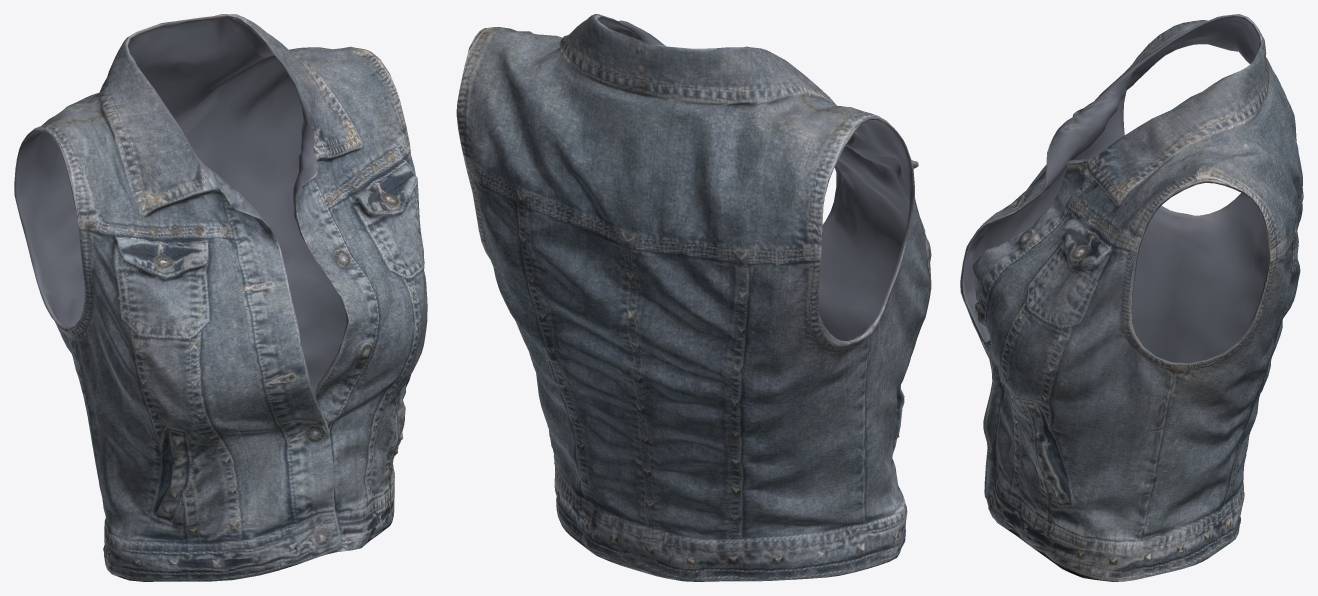
File: K_Jeans_Jacket.glb
3 renders of one model, left to right at view 1: azimuth 30°, elevation 25°; view 2: azimuth 150°, elevation 25°; view 3: azimuth 270°, elevation 25°, orthographic. The views are drawn at different scales.
Parts seen in each view (by area): view 1: Group26346; view 2: Group26346; view 3: Group26346.
Boxes of the visible parts, box(x1,y1,x2,y2) form: Group26346: box(14, 14, 427, 581); Group26346: box(456, 14, 931, 581); Group26346: box(960, 14, 1303, 581).
Size of the model in its own units: 0.3241 by 0.4317 by 0.2838.
Materials: 1 (1 with a texture image).
